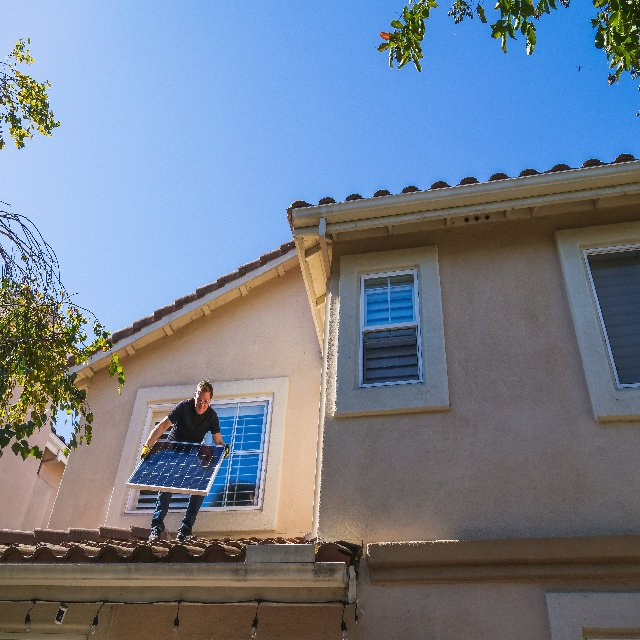Gafas: (196, 394, 210, 405)
Guantes: (140, 444, 149, 459), (224, 443, 229, 458)
